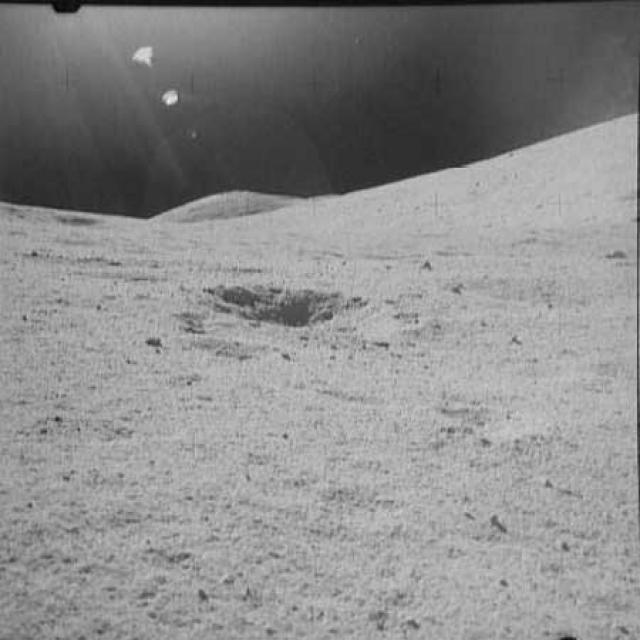crater: (224, 282, 368, 331), (53, 210, 104, 234)
